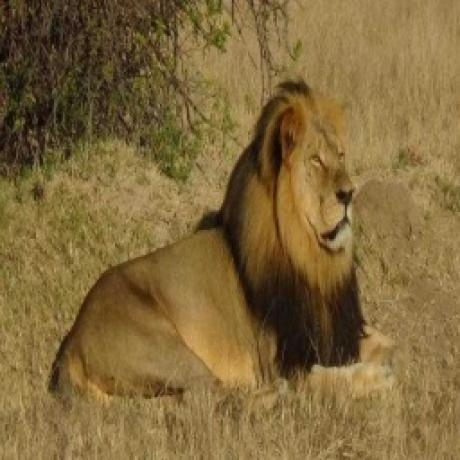Lion: (41, 67, 372, 414)
